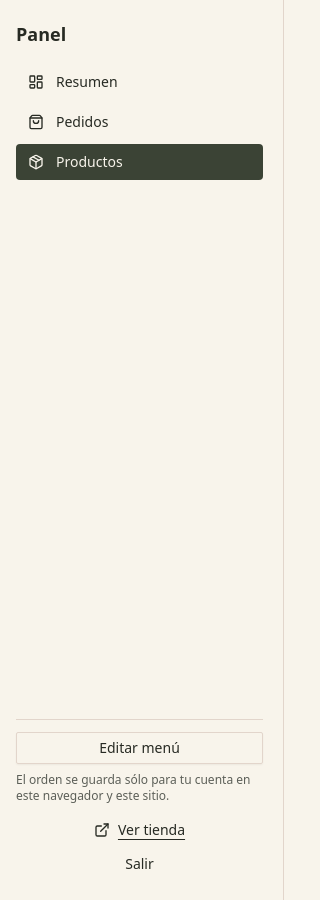
Test: keeps navigation usable when browser storage throws
The image size is (320, 900).
Click the button "Editar menú" at (140,748), box [16,732,263,764]
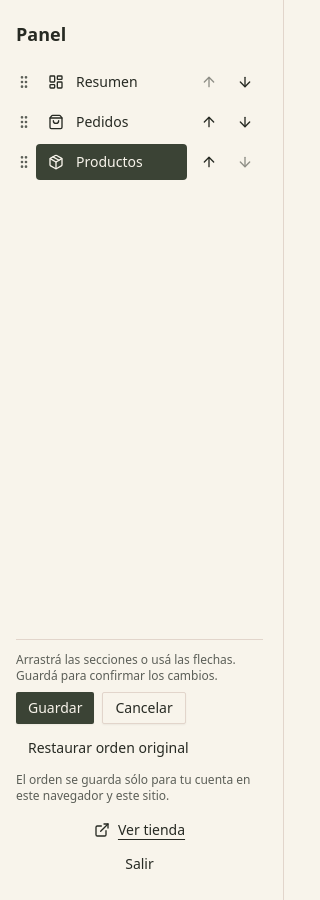
Click the button named "Subir Productos" at (209,162), box [191,144,227,180]
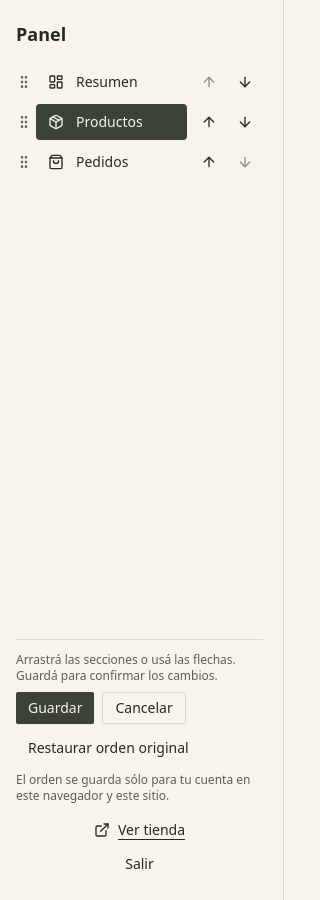
Click the button "Guardar" at (55,708), box [16,692,94,724]
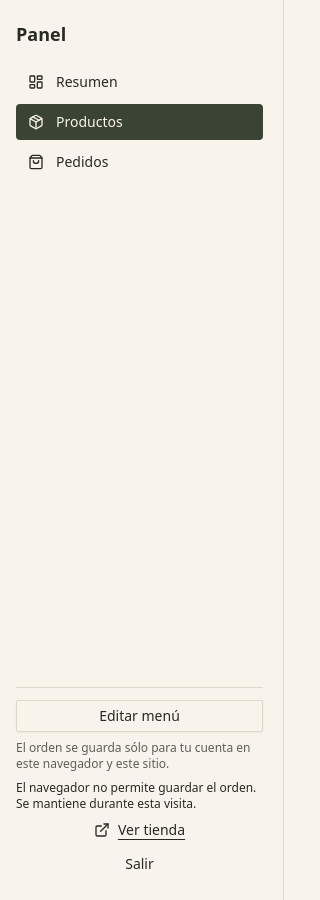
Expected: the message shows "no permite guardar", [16,779,256,812]
